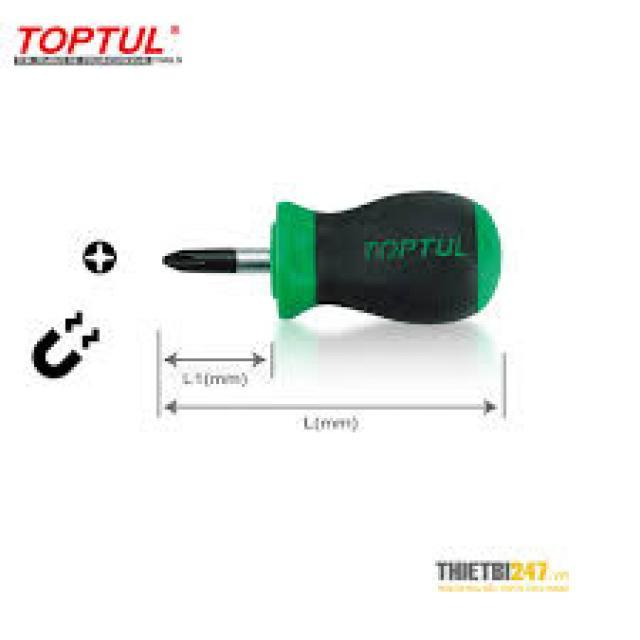screwdriver: (157, 188, 514, 330)
